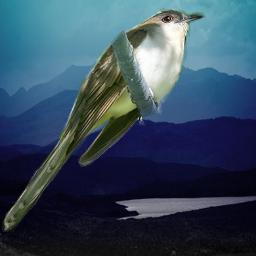Cuckoo: (0, 7, 205, 236)
